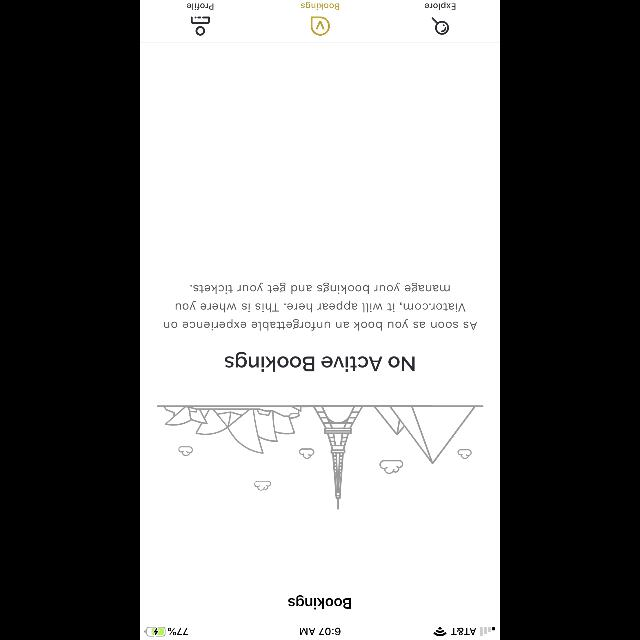icon: (190, 16, 210, 36), (432, 18, 448, 34)
image: (157, 405, 483, 509), (310, 16, 330, 36)
text: (164, 282, 476, 330), (224, 352, 414, 372), (288, 595, 352, 609), (301, 2, 339, 10), (424, 2, 456, 10), (187, 4, 213, 10)
uppertaskbar: (140, 626, 500, 640)
